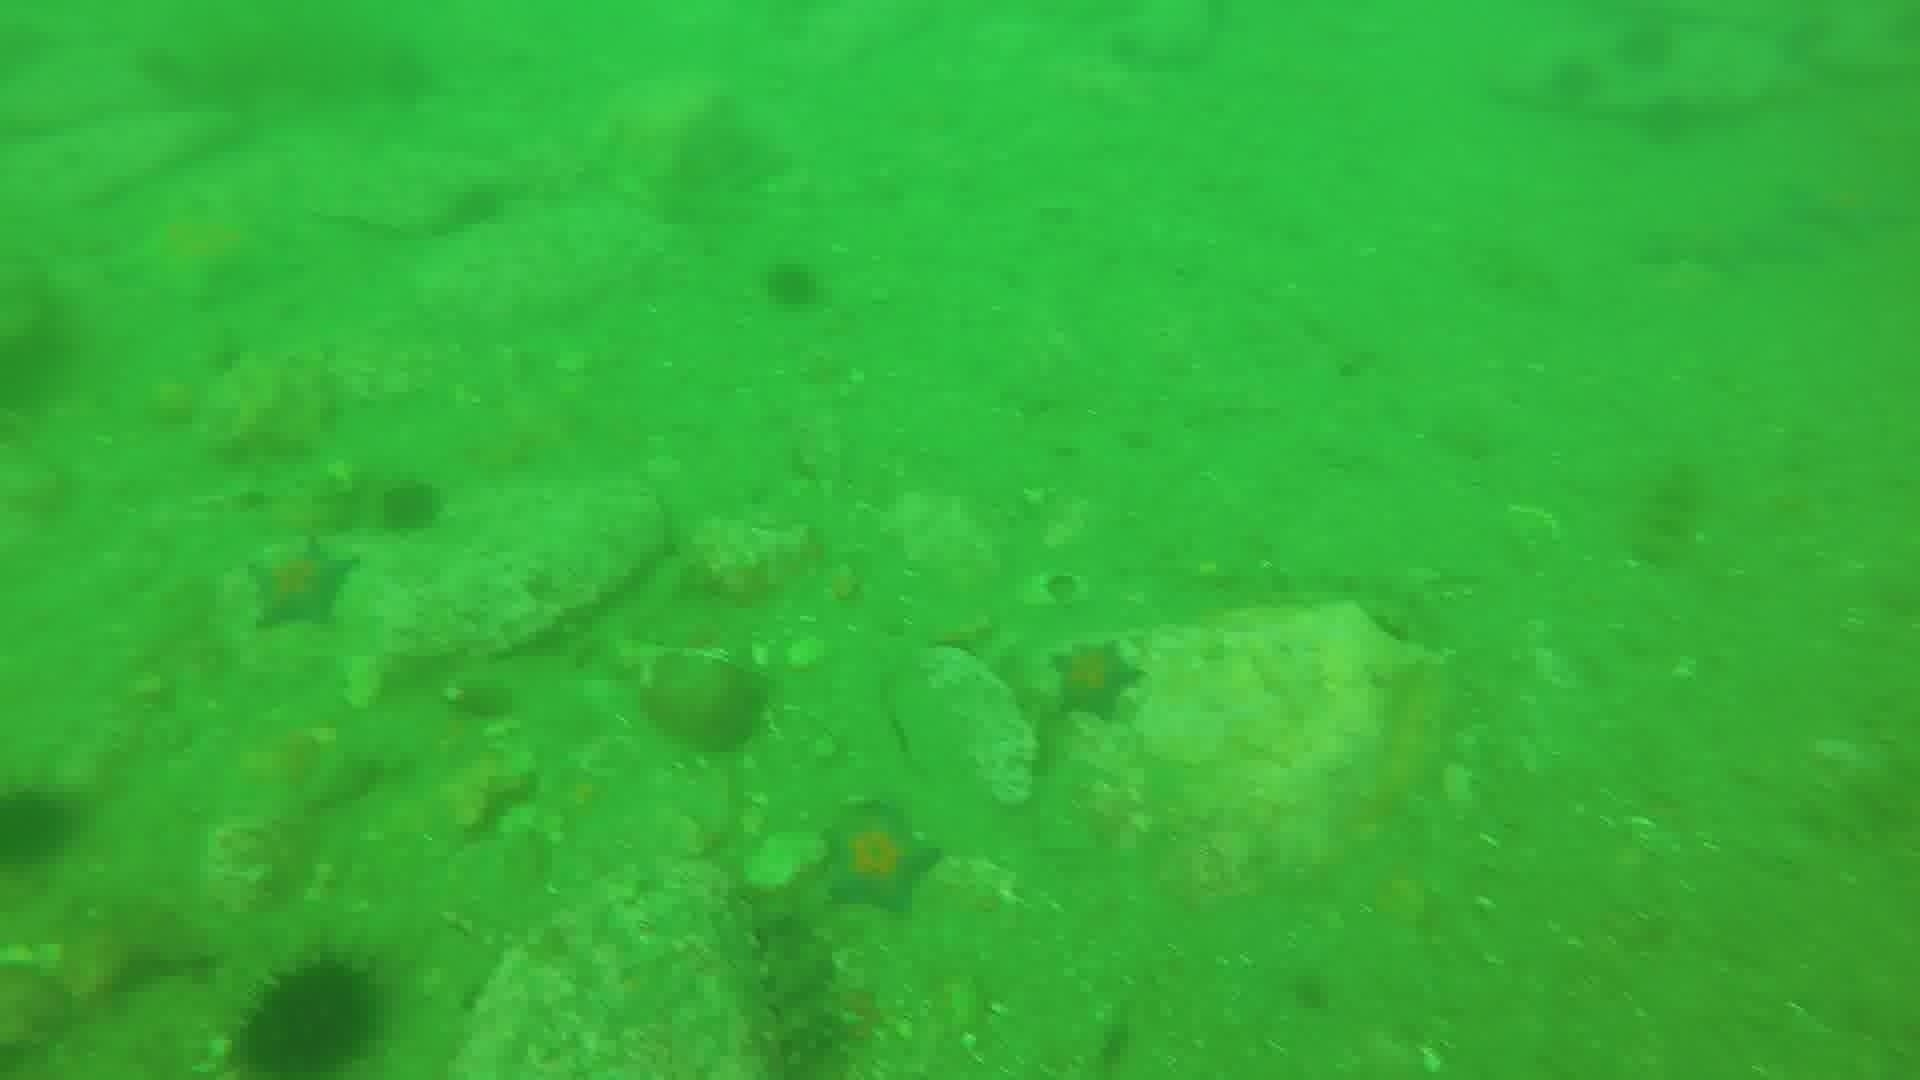echinus: (228, 951, 389, 1073), (1, 779, 83, 876), (372, 473, 448, 539), (757, 255, 828, 316)
holothurian: (742, 891, 857, 1077)
starfish: (116, 196, 291, 309), (814, 802, 943, 919), (1776, 161, 1911, 251), (243, 535, 361, 636), (1043, 636, 1146, 725)
